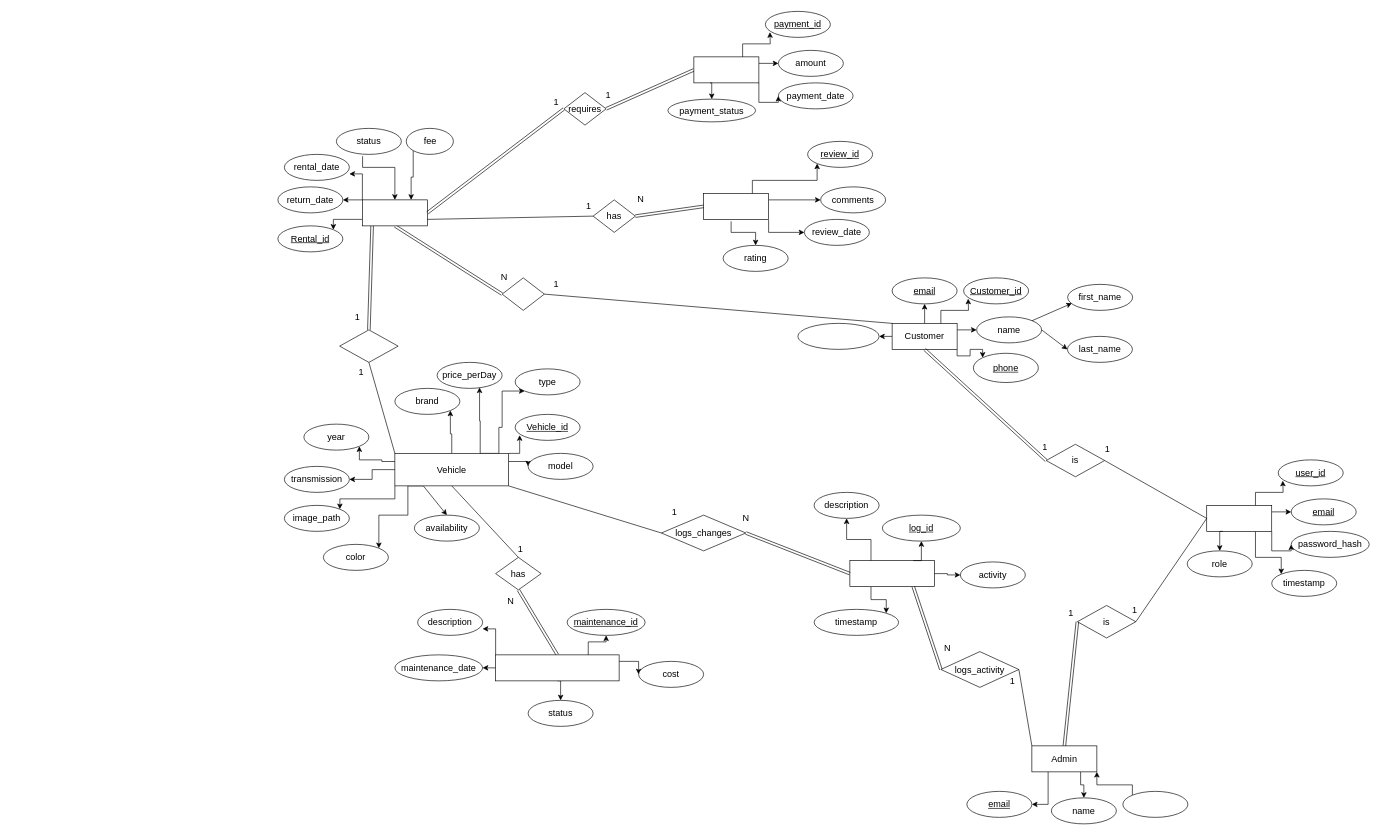
This 1381x835 diagram has some shape labels left out. The centre of each missing label's shape, as x and y in pixels:
"admin_id" belongs at [1155,804].
"admin_log" belongs at [891,573].
"becomes" belongs at [368,345].
"license_number" belongs at [838,336].
"Maintenance_Record" belongs at [557,667].
"makes" belongs at [522,293].
"Payment" belongs at [726,69].
"Rental" belongs at [394,212].
"Review" belongs at [736,206].
"User" belongs at [1239,518].
